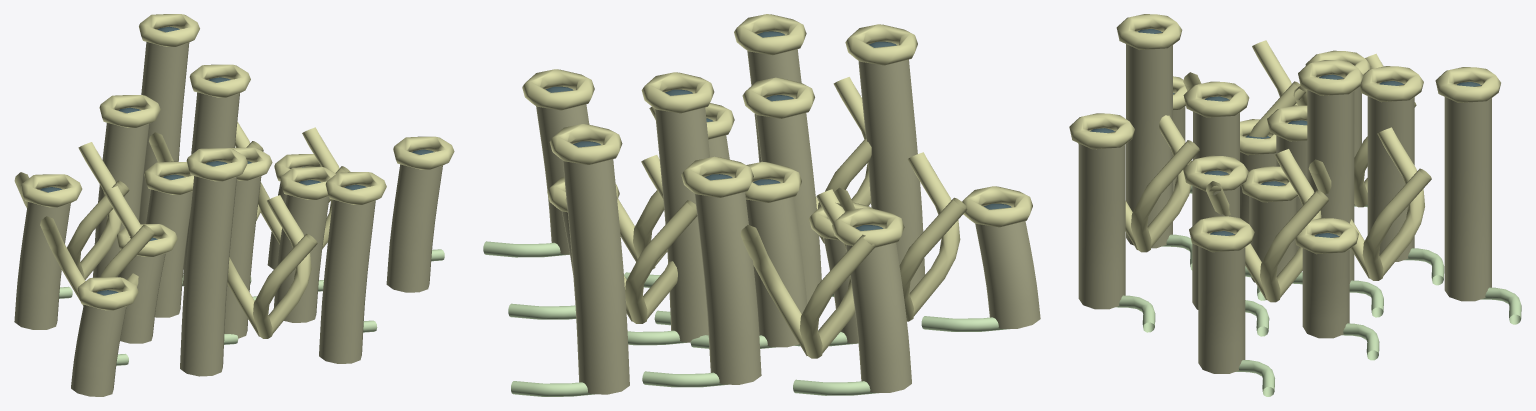
Rendered from bio_thermal_colony_24_far.glb.
3 views of the same model, side by side, from view 1: azimuth 30°, elevation 25°; view 2: azimuth 150°, elevation 25°; view 3: azimuth 270°, elevation 25° (orthographic). The views are drawn at different scales.
Visible parts, largest first — view 1: Chimney biofilm.007, Chimney biofilm.010, Chimney biofilm.013, Chimney biofilm.009, Spiral filament.006, Chimney biofilm.011, Chimney biofilm.012, Chimney biofilm.006, Spiral filament.003, Chimney biofilm.001, Chimney biofilm.005, Chimney biofilm.002 (+19 smaller); view 2: Chimney biofilm.011, Chimney biofilm.006, Chimney biofilm.007, Chimney biofilm.003, Chimney biofilm.009, Spiral filament.003, Chimney biofilm.001, Chimney biofilm.012, Spiral filament.012, Chimney biofilm.002, Spiral filament.009, Chimney biofilm.013 (+24 smaller); view 3: Chimney biofilm.011, Chimney biofilm.010, Chimney biofilm.007, Chimney biofilm.013, Chimney biofilm.003, Spiral filament.009, Spiral filament, Chimney biofilm.006, Spiral filament.006, Chimney biofilm.008, Chimney biofilm, Spiral filament.012 (+26 smaller).
Part boxes in pixels (left/top/right/bottom): Chimney biofilm.007: left=180, top=176, right=236, bottom=376; Chimney biofilm.010: left=319, top=199, right=375, bottom=363; Chimney biofilm.013: left=386, top=164, right=442, bottom=292; Chimney biofilm.009: left=14, top=202, right=70, bottom=329; Spiral filament.006: left=227, top=195, right=317, bottom=338; Chimney biofilm.011: left=139, top=42, right=189, bottom=224; Chimney biofilm.012: left=71, top=305, right=126, bottom=396; Chimney biofilm.006: left=93, top=123, right=149, bottom=277; Spiral filament.003: left=14, top=142, right=129, bottom=279; Chimney biofilm.001: left=146, top=189, right=192, bottom=317; Chimney biofilm.005: left=273, top=194, right=329, bottom=322; Chimney biofilm.002: left=224, top=176, right=261, bottom=338; Chimney biofilm.011: left=562, top=159, right=629, bottom=394; Chimney biofilm.006: left=694, top=192, right=761, bottom=384; Chimney biofilm.007: left=858, top=44, right=925, bottom=293; Chimney biofilm.003: left=655, top=107, right=709, bottom=342; Chimney biofilm.009: left=845, top=242, right=911, bottom=392; Spiral filament.003: left=740, top=189, right=875, bottom=358; Chimney biofilm.001: left=746, top=181, right=807, bottom=347; Chimney biofilm.012: left=975, top=221, right=1040, bottom=328; Spiral filament.012: left=834, top=152, right=967, bottom=321; Chimney biofilm.002: left=756, top=97, right=821, bottom=303; Spiral filament.009: left=565, top=155, right=697, bottom=323; Chimney biofilm.013: left=536, top=89, right=589, bottom=254; Chimney biofilm.011: left=1444, top=85, right=1491, bottom=301; Chimney biofilm.010: left=1078, top=131, right=1125, bottom=309; Chimney biofilm.007: left=1126, top=32, right=1172, bottom=248; Chimney biofilm.013: left=1198, top=234, right=1245, bottom=373; Chimney biofilm.003: left=1307, top=77, right=1354, bottom=283; Spiral filament.009: left=1308, top=127, right=1431, bottom=280; Spiral filament: left=1206, top=149, right=1328, bottom=302; Chimney biofilm.006: left=1367, top=84, right=1414, bottom=261; Spiral filament.006: left=1078, top=115, right=1199, bottom=252; Chimney biofilm.008: left=1302, top=236, right=1349, bottom=338; Chimney biofilm: left=1249, top=184, right=1296, bottom=282; Spiral filament.012: left=1183, top=40, right=1305, bottom=137.
Bounding box in the file's own units: 2.19 × 1.07 × 1.92.
